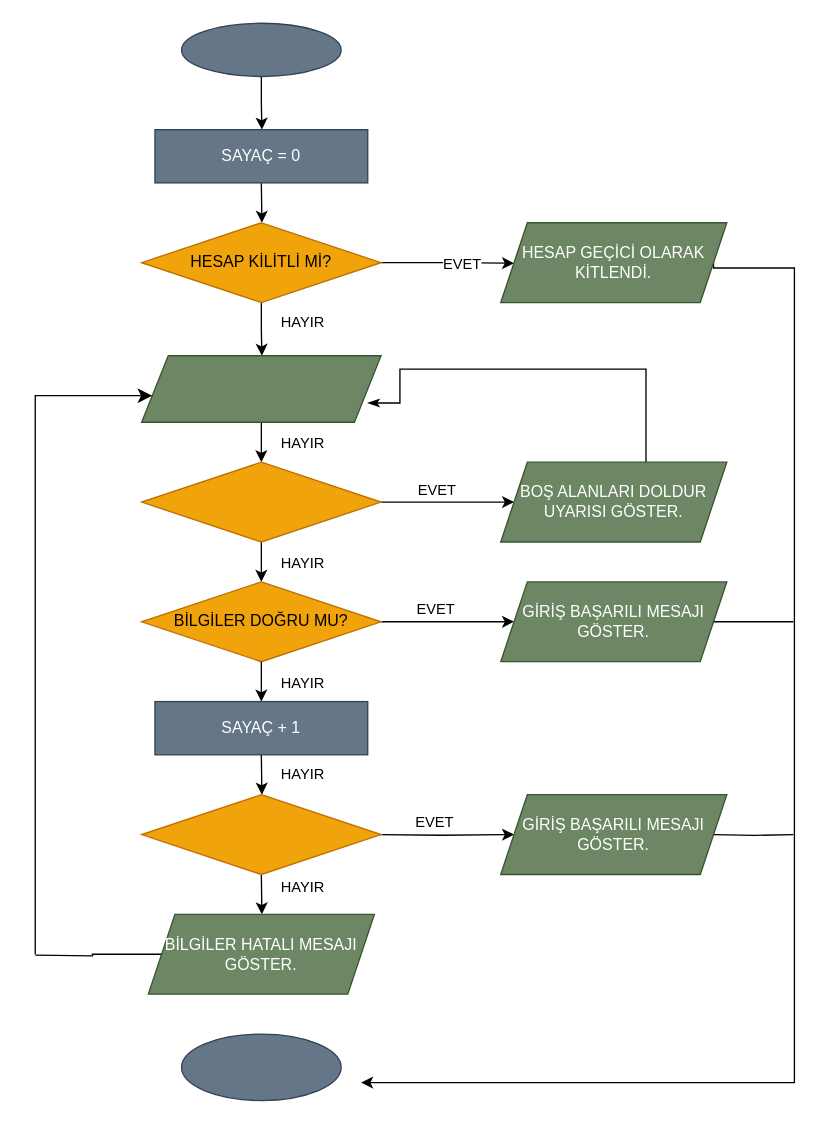
This 829x1124 diagram has some shape labels left out. The centre of each missing label's shape, as x and y in pixels:
"ALAN BOŞ MU?" belongs at (x=260, y=501).
"BAŞLA" belongs at (x=260, y=49).
"BİTİR" belongs at (x=260, y=1067).
"E-POSTA VE ŞİFRE AL" belongs at (x=260, y=388).
"SAYAÇ =3 MÜ?" belongs at (x=260, y=833).
